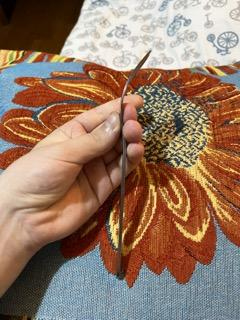fork: (114, 48, 154, 275)
